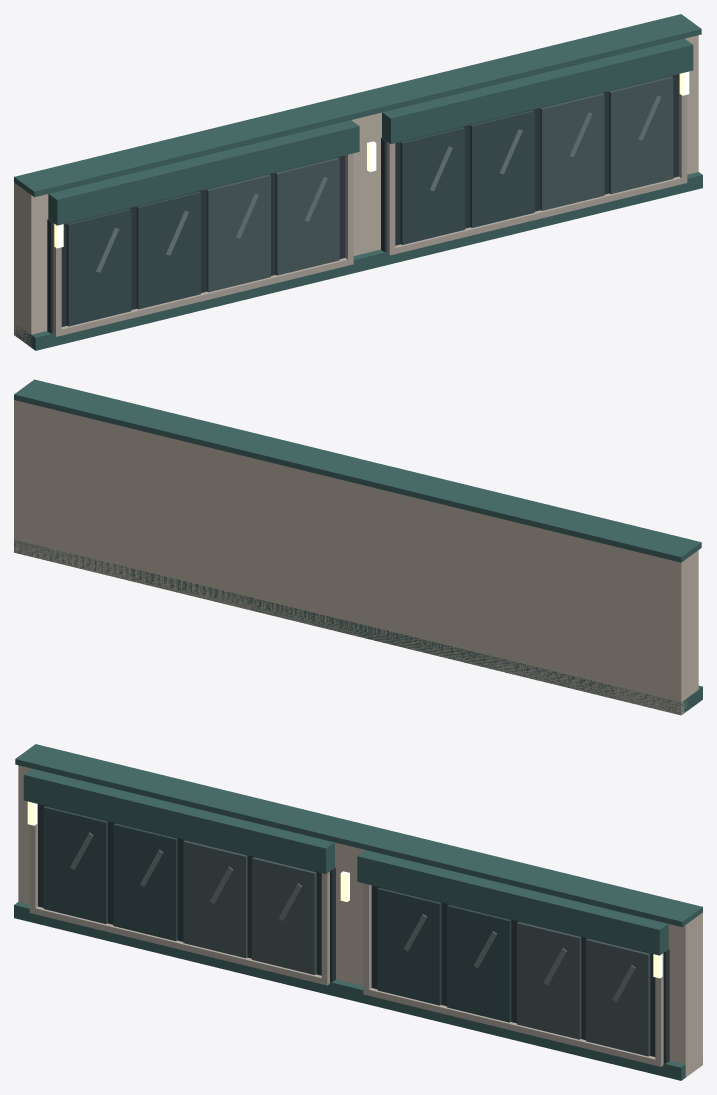
The model's file is TC_WallA.glb.
3 views of the same model, one above another, from view 1: azimuth 30°, elevation 25°; view 2: azimuth 150°, elevation 25°; view 3: azimuth 330°, elevation 25° (orthographic).
Parts seen in each view (by area): view 1: TC_WallA; view 2: TC_WallA; view 3: TC_WallA.
Part boxes in pixels (left/top/right/bottom): TC_WallA: left=14, top=14, right=702, bottom=350; TC_WallA: left=14, top=379, right=702, bottom=715; TC_WallA: left=14, top=744, right=702, bottom=1080.
Bounding box in the file's own units: 64 × 14.5 × 4.57.
Materials: 2 (2 with a texture image).
